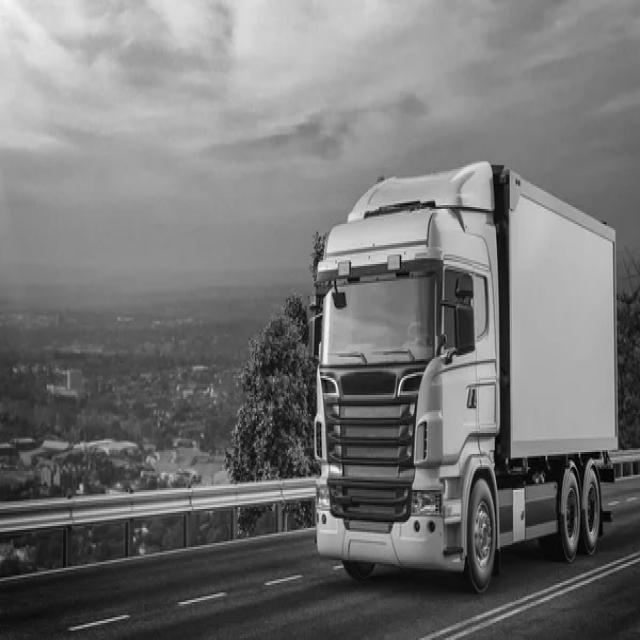Truck: (310, 162, 619, 592)
